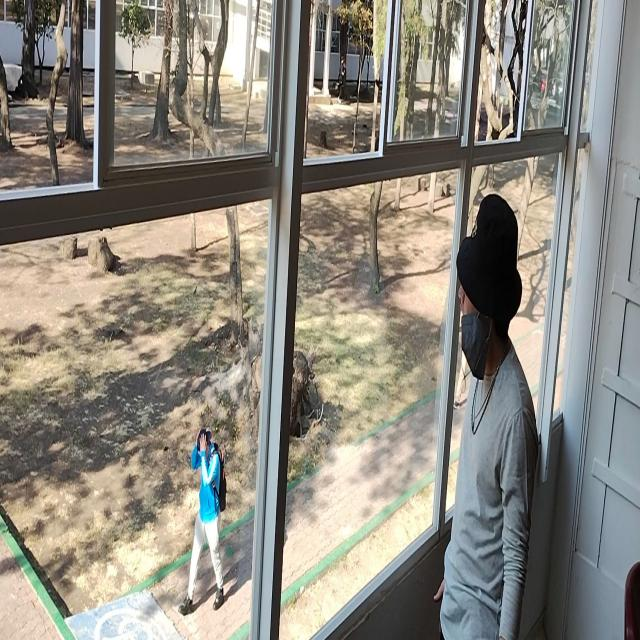adult: (435, 191, 538, 640), (180, 424, 228, 614)
